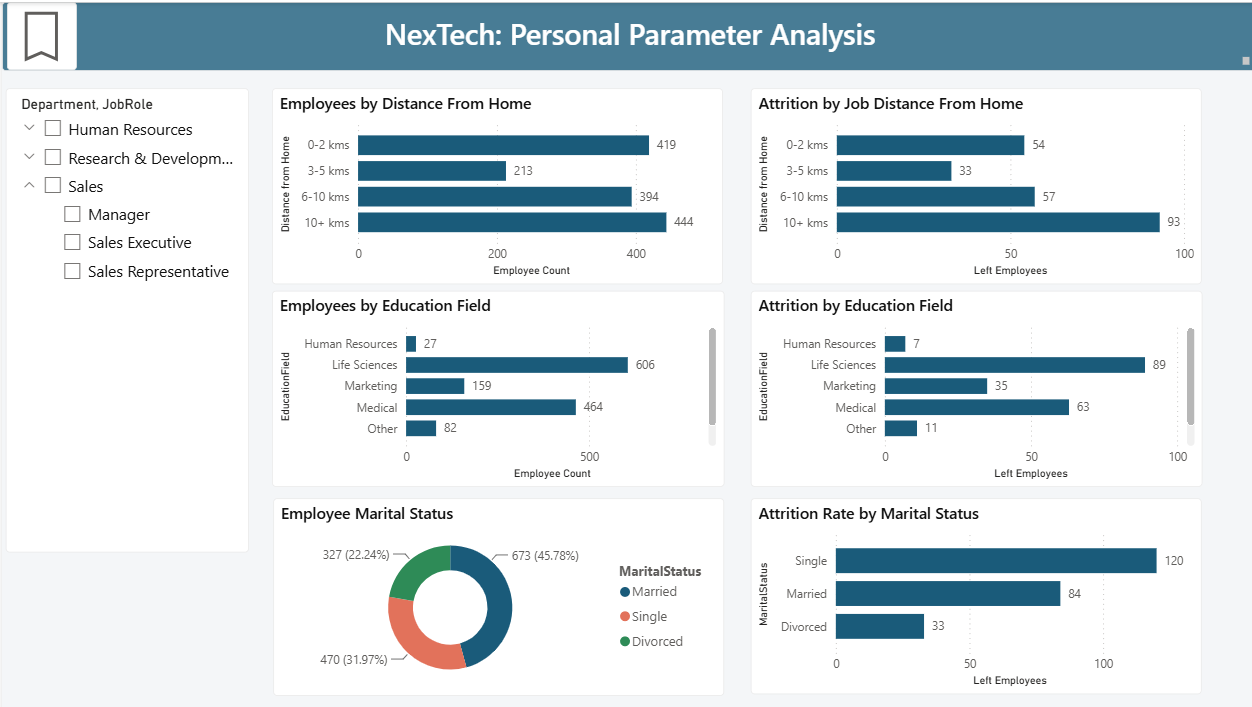

Layout of this report page (visuals, bound fields, positions):
{"tool":"powerbi","page":{"name":"Personal Parameters","canvas":[1280,720],"ordinal":5},"visuals":[{"type":"textbox","title":"NexTech: Personal Parameter Analysis","box":[0,0,1279.8,70],"z":0},{"type":"slicer","fields":{"Values":["Survey Input.Department","Survey Input.JobRole"]},"box":[3.5,88.4,247.7,473.3],"z":1000},{"type":"barChart","title":"Employees by Distance From Home","fields":{"Category":["Survey Input.DistancFromHomeBins"],"Y":["Sum(Survey Input.EmployeeCount)"]},"box":[275.8,88.3,460,200],"z":2000},{"type":"barChart","title":"Attrition by Job Distance From Home","fields":{"Category":["Survey Input.DistancFromHomeBins"],"Y":["All_Measures.Left Employees"]},"box":[763.2,88.3,460,200],"z":3000},{"type":"donutChart","title":"Employee Marital Status","fields":{"Category":["Survey Input.MaritalStatus"],"Y":["Sum(Survey Input.EmployeeCount)"]},"box":[277.3,506.8,460,201.2],"z":4000},{"type":"barChart","title":"Attrition Rate by Marital Status","fields":{"Category":["Survey Input.MaritalStatus"],"Y":["All_Measures.Left Employees"]},"box":[764.4,506.8,460,200],"z":5000},{"type":"barChart","title":"Employees by Education Field","fields":{"Category":["Survey Input.EducationField"],"Y":["Sum(Survey Input.EmployeeCount)"]},"box":[274.8,294.5,461.4,200],"z":6000},{"type":"barChart","title":"Attrition by Education Field","fields":{"Category":["Survey Input.EducationField"],"Y":["All_Measures.Left Employees"]},"box":[763.4,294.5,461,200],"z":7000},{"type":"actionButton","box":[4.9,0,71.2,69.9],"z":8000}]}

Visuals, with their boxes on the page's 1280x720 design canvas (x1, y1, x2, y2). These are canvas units, not pixel positions in the 1252x707 screenshot, which may show the page scaled, cropped or inside an application window:
"NexTech: Personal Parameter Analysis" textbox: 0, 0, 1280, 70
slicer - Survey Input.Department x Survey Input.JobRole: 4, 88, 251, 562
"Employees by Distance From Home" barChart: 276, 88, 736, 288
"Attrition by Job Distance From Home" barChart: 763, 88, 1223, 288
"Employee Marital Status" donutChart: 277, 507, 737, 708
"Attrition Rate by Marital Status" barChart: 764, 507, 1224, 707
"Employees by Education Field" barChart: 275, 294, 736, 494
"Attrition by Education Field" barChart: 763, 294, 1224, 494
actionButton: 5, 0, 76, 70
